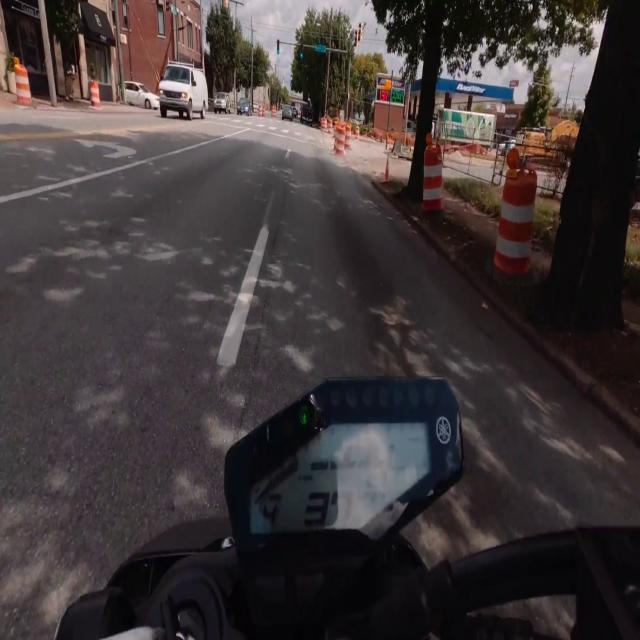car: (159, 62, 208, 120), (124, 82, 159, 109), (214, 92, 230, 113), (300, 105, 313, 125), (237, 98, 250, 115), (282, 105, 293, 121), (292, 107, 298, 118)
motorcycle: (56, 379, 639, 639)
